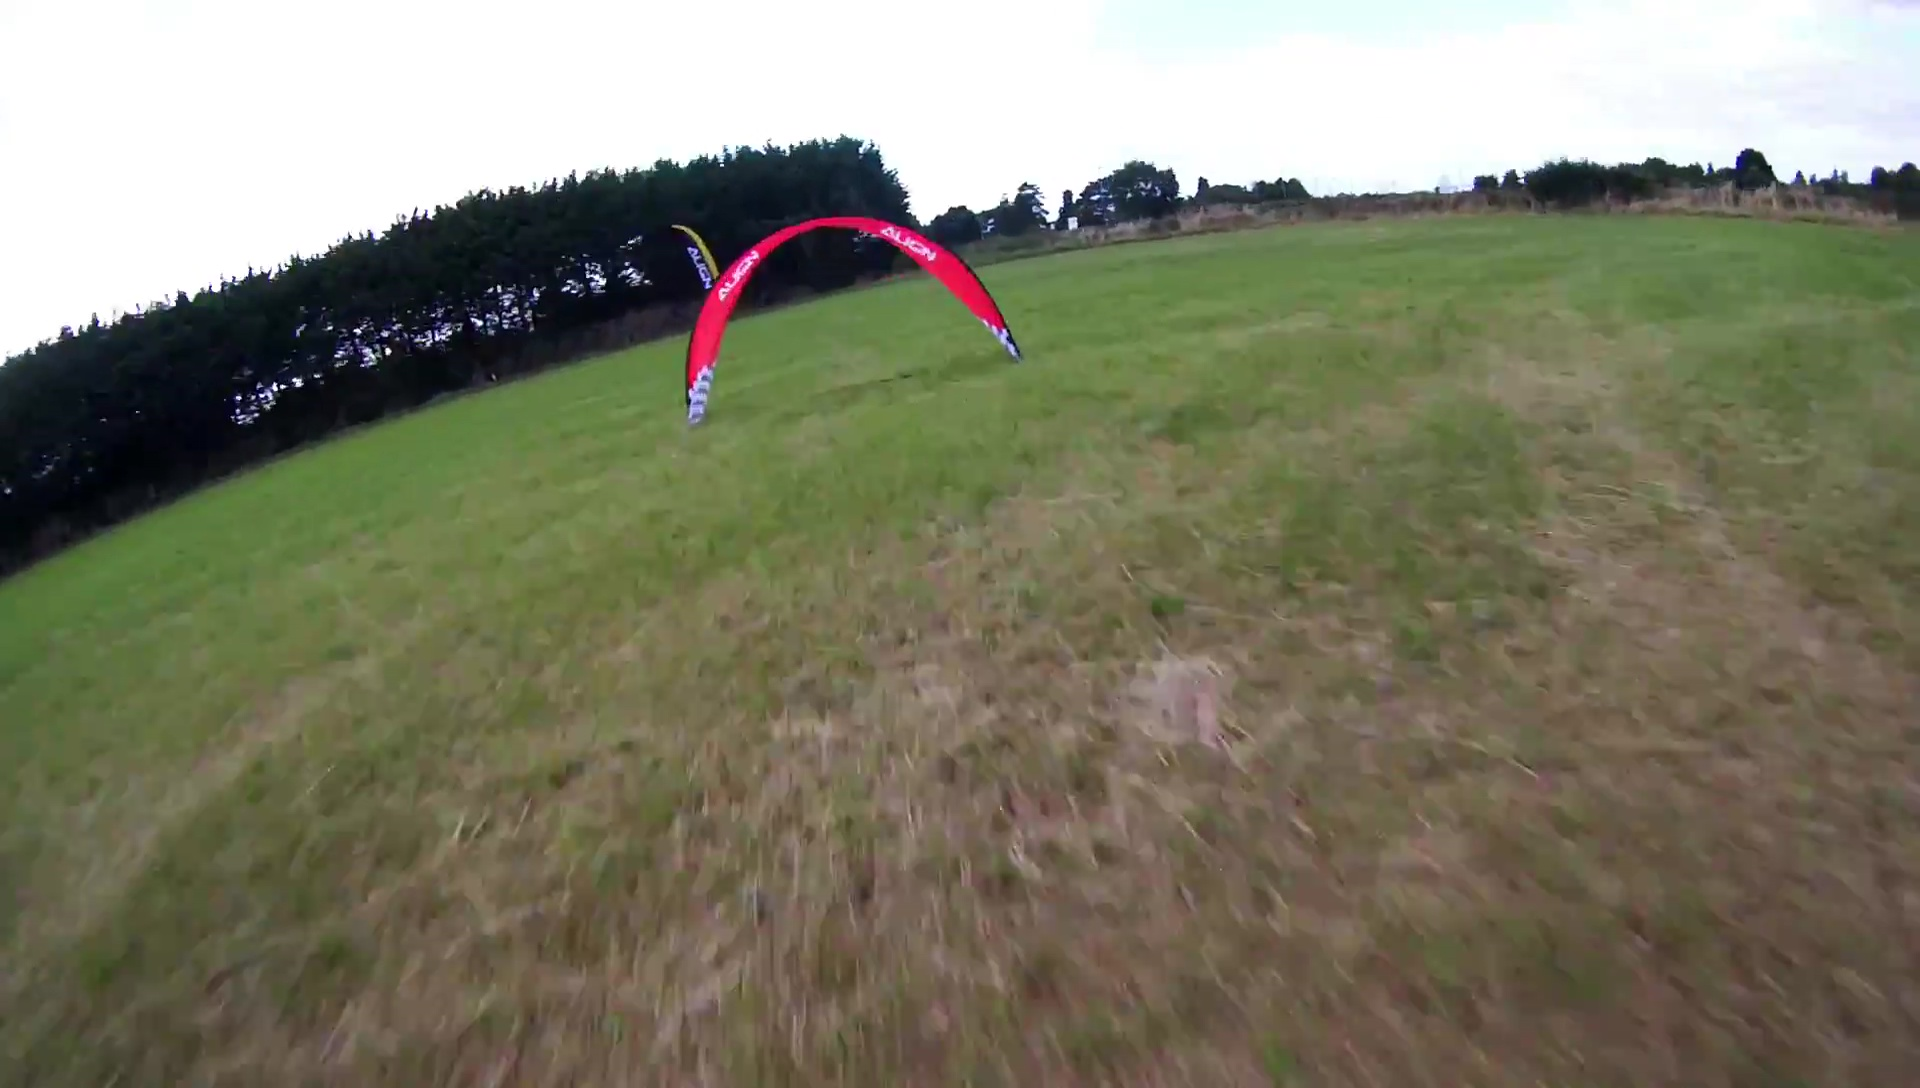gate: (682, 218, 1029, 429)
